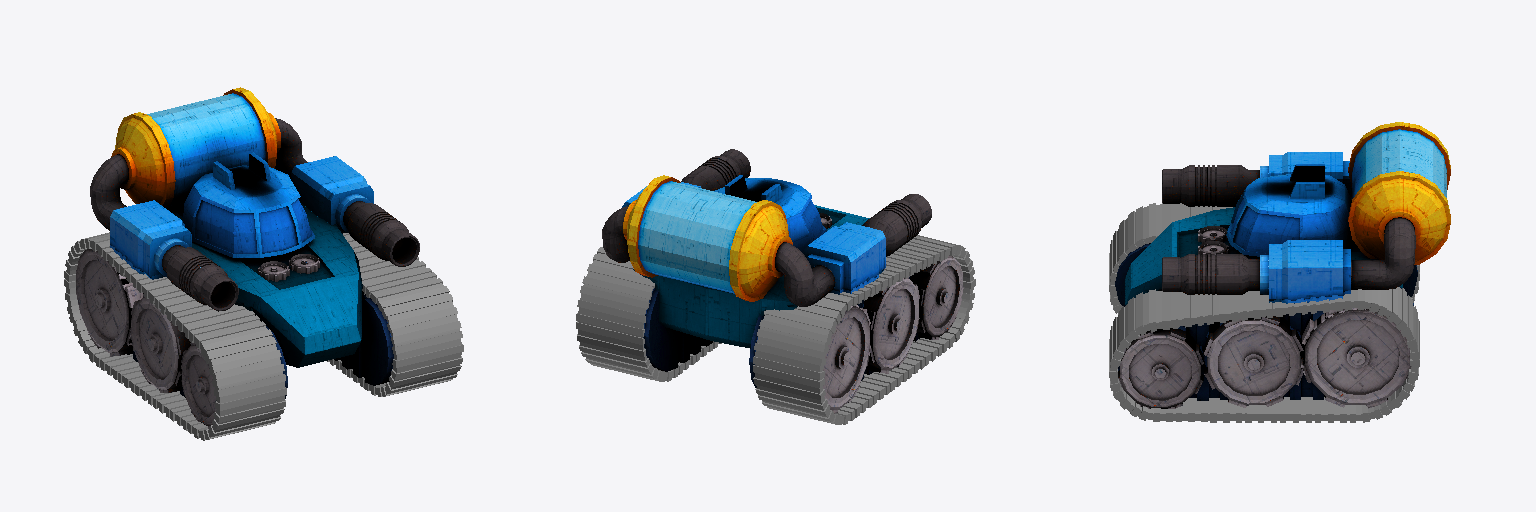
3 renders of one model, left to right at view 1: azimuth 30°, elevation 25°; view 2: azimuth 150°, elevation 25°; view 3: azimuth 270°, elevation 25°, orthographic.
Visible parts, largest first — view 1: Object001, Box042, Object004, Object003, Object002; view 2: Object001, Box042, Object003, Object004, Object002; view 3: Object001, Box042, Object004, Object003, Object002.
Boxes of the visible parts, <box> form: Object001: <box>90,87,419,398</box>; Box042: <box>64,232,463,440</box>; Object004: <box>76,249,142,356</box>; Object003: <box>130,294,190,392</box>; Object002: <box>181,343,216,428</box>; Object001: <box>602,149,931,387</box>; Box042: <box>576,235,975,424</box>; Object003: <box>863,276,919,373</box>; Object004: <box>823,305,870,413</box>; Object002: <box>912,256,963,339</box>; Object001: <box>1115,122,1450,400</box>; Box042: <box>1109,203,1419,422</box>; Object004: <box>1301,308,1410,408</box>; Object003: <box>1203,316,1303,407</box>; Object002: <box>1118,328,1203,408</box>.
Size of the model in its own units: 121 by 102 by 147.
Materials: 2 (1 with a texture image).